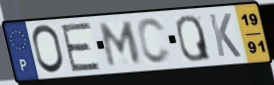C: (135, 16, 173, 66)
E: (59, 21, 103, 74)
K: (206, 11, 243, 58)
M: (99, 20, 144, 69)
O: (30, 23, 67, 76)
Q: (174, 13, 213, 63)
